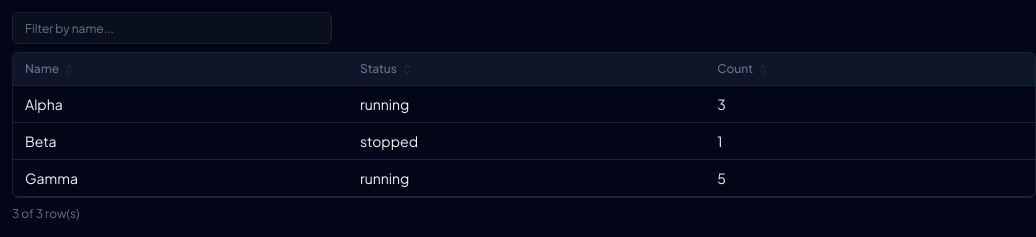
Test case: DataTable › filters rows via search
The width and height of the screenshot is (1036, 237).
Type "Alpha" into the field with placeholder "Filter by name..." at (172, 28), box [12, 12, 332, 44]
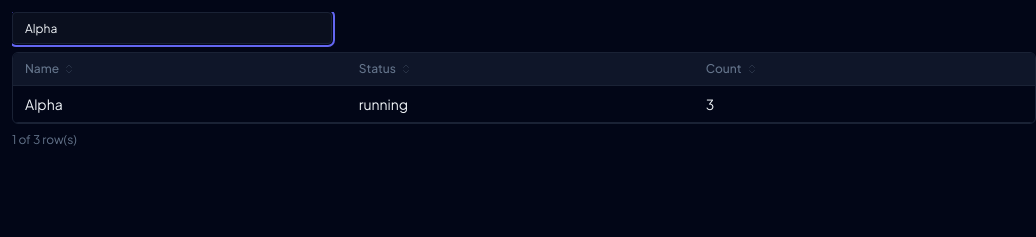
Expected: the text "Alpha" is shown, [13, 86, 347, 122]
Expected: the text "Beta" is gone
Expected: the text "1 of 3 row(s)" is shown, [12, 132, 77, 147]
